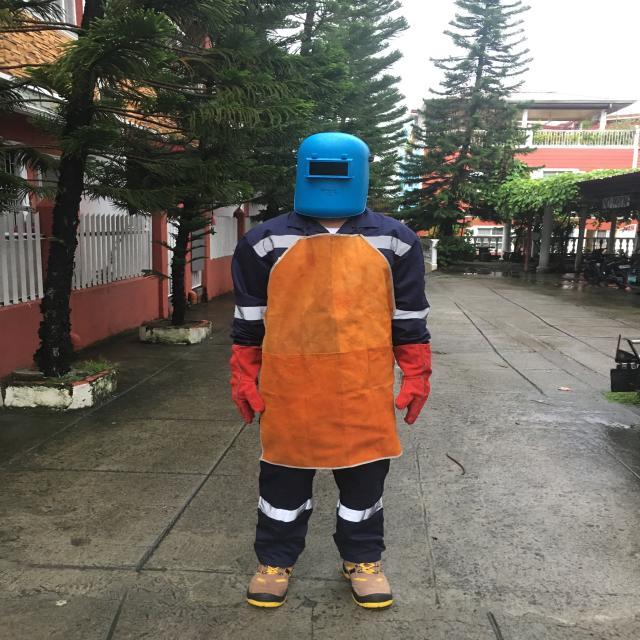with_helmet: (294, 132, 370, 218)
